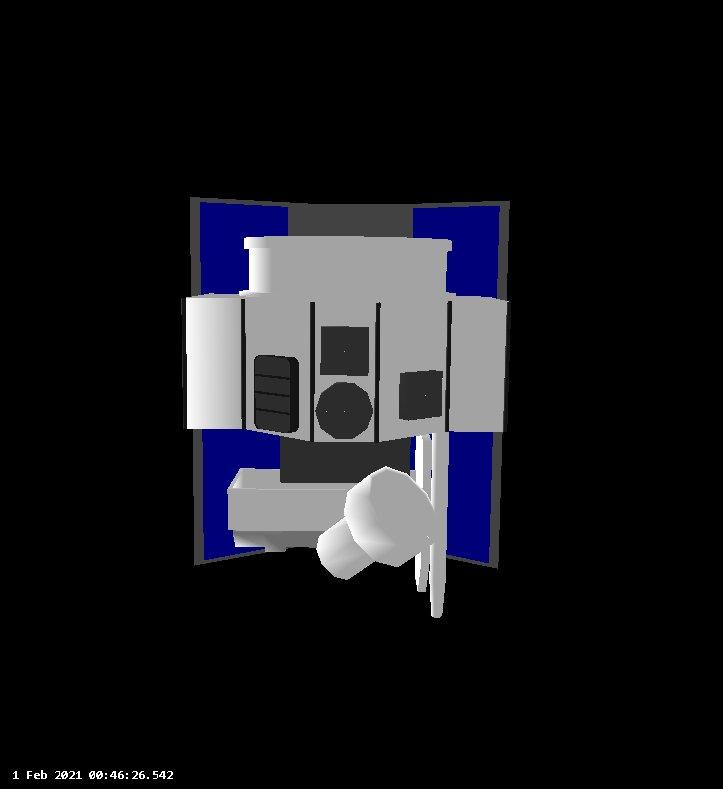antenna: (317, 380, 374, 441)
body: (182, 288, 513, 555)
solar: (195, 196, 289, 563), (410, 201, 503, 567)
thruster: (242, 233, 454, 299)
